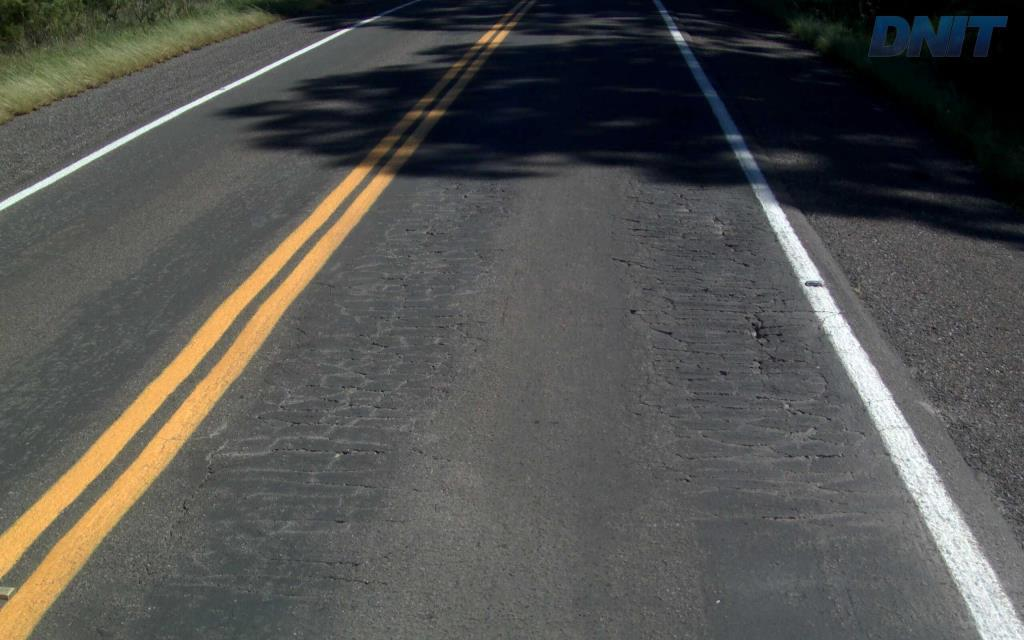crack: (725, 304, 786, 348), (719, 219, 759, 256), (657, 245, 717, 262), (752, 348, 787, 377)
